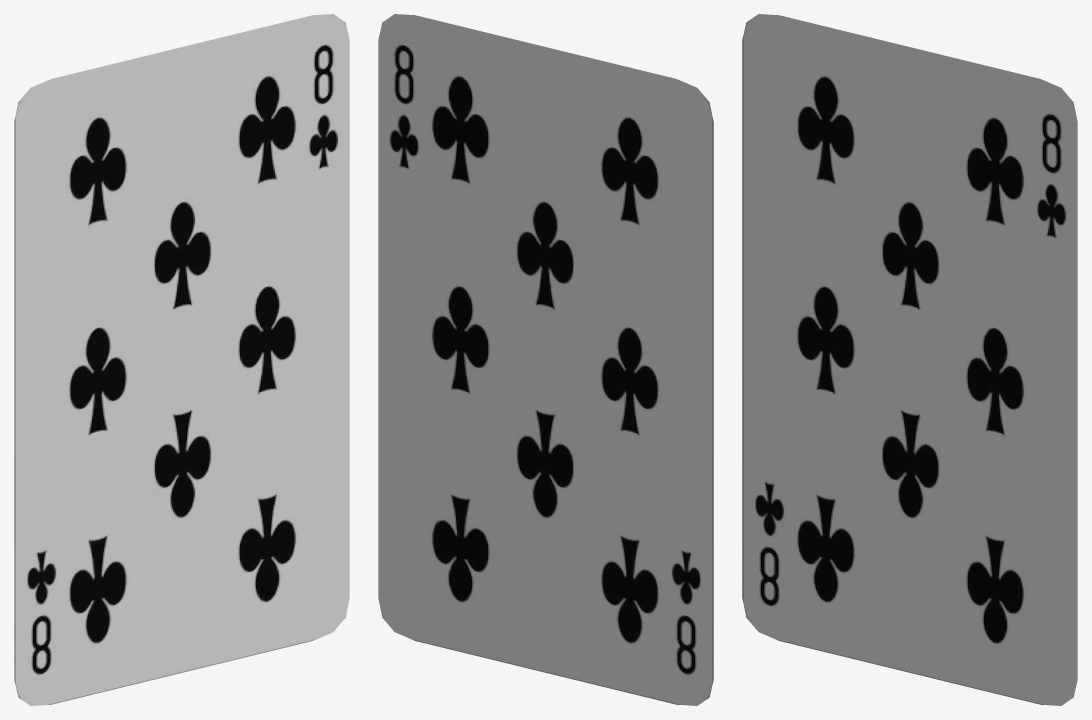
Rendered from 8_clubs.glb.
The picture shows the model from 3 angles, left to right: view 1: azimuth 30°, elevation 25°; view 2: azimuth 150°, elevation 25°; view 3: azimuth 330°, elevation 25°; orthographic projection.
Parts seen in each view (by area): view 1: Eight of Clubs_34_0; view 2: Eight of Clubs_34_0; view 3: Eight of Clubs_34_0.
Part boxes in pixels (bbox=[...]): Eight of Clubs_34_0: bbox=[14, 14, 349, 705]; Eight of Clubs_34_0: bbox=[378, 14, 713, 705]; Eight of Clubs_34_0: bbox=[742, 14, 1077, 705].
Bounding box in the file's own units: 0.2527 × 0.4503 × 2.78e-17.
1 material, 1 textured.
